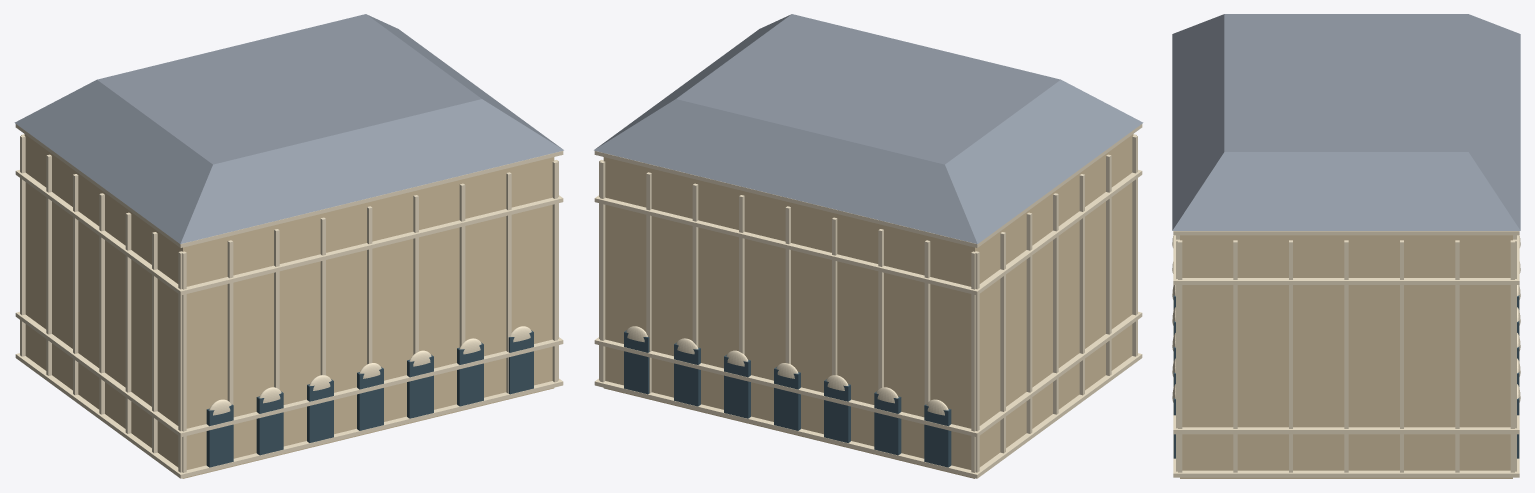
The model's file is heritage-1-lod1.glb.
The picture shows the model from 3 angles, left to right: view 1: azimuth 30°, elevation 25°; view 2: azimuth 150°, elevation 25°; view 3: azimuth 270°, elevation 25°; orthographic projection. The views are drawn at different scales.
Visible parts, largest first — view 1: heritage-1_architecture; view 2: heritage-1_architecture; view 3: heritage-1_architecture.
Part boxes in pixels (bbox=[...]): heritage-1_architecture: bbox=[14, 14, 563, 478]; heritage-1_architecture: bbox=[594, 14, 1143, 478]; heritage-1_architecture: bbox=[1172, 14, 1520, 478].
Size of the model in its own units: 23.8 by 16.95 by 17.8.
